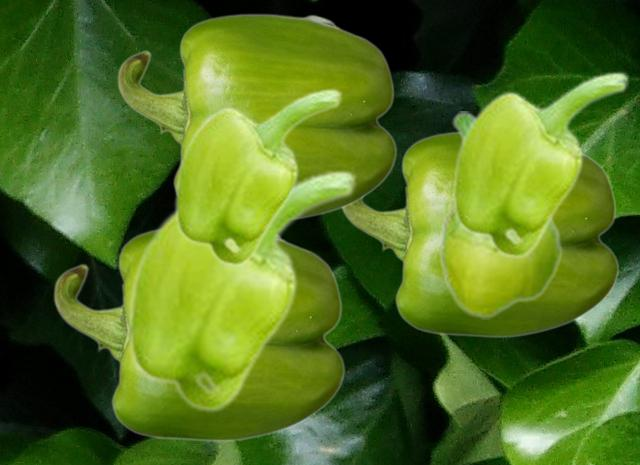bell_pepper: (53, 229, 344, 441), (117, 13, 396, 219), (341, 131, 618, 337), (126, 168, 357, 412), (451, 70, 629, 258), (173, 87, 342, 266), (438, 111, 562, 318)
